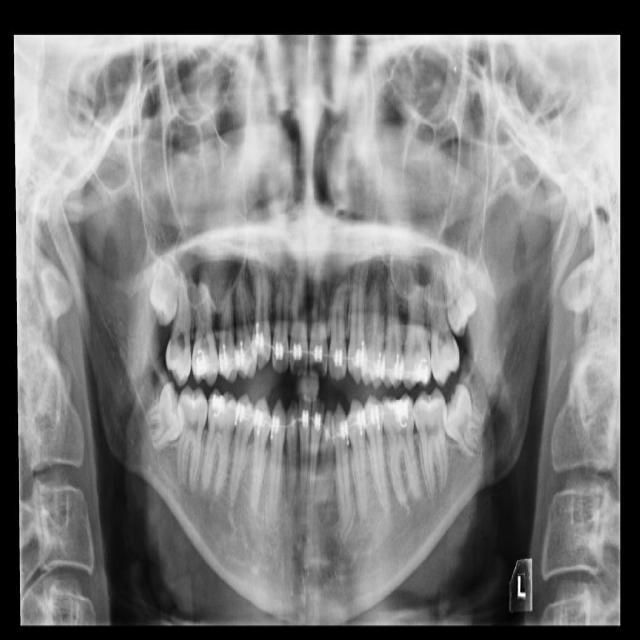3M ESPE Implant: (147, 254, 182, 328)
52: (171, 382, 216, 431), (446, 330, 453, 340), (170, 335, 175, 346)
73: (616, 607, 628, 615)
BioHorizons Implant: (425, 258, 461, 388)
BioLife Implant: (440, 244, 481, 339)
Biomet 3i Implant: (428, 378, 496, 465)
Blue Sky Bio Implant: (409, 385, 463, 501)
Caries: (165, 270, 193, 387)
Implant: (171, 382, 211, 488)
Keystone Dental Implant: (141, 379, 190, 451)
